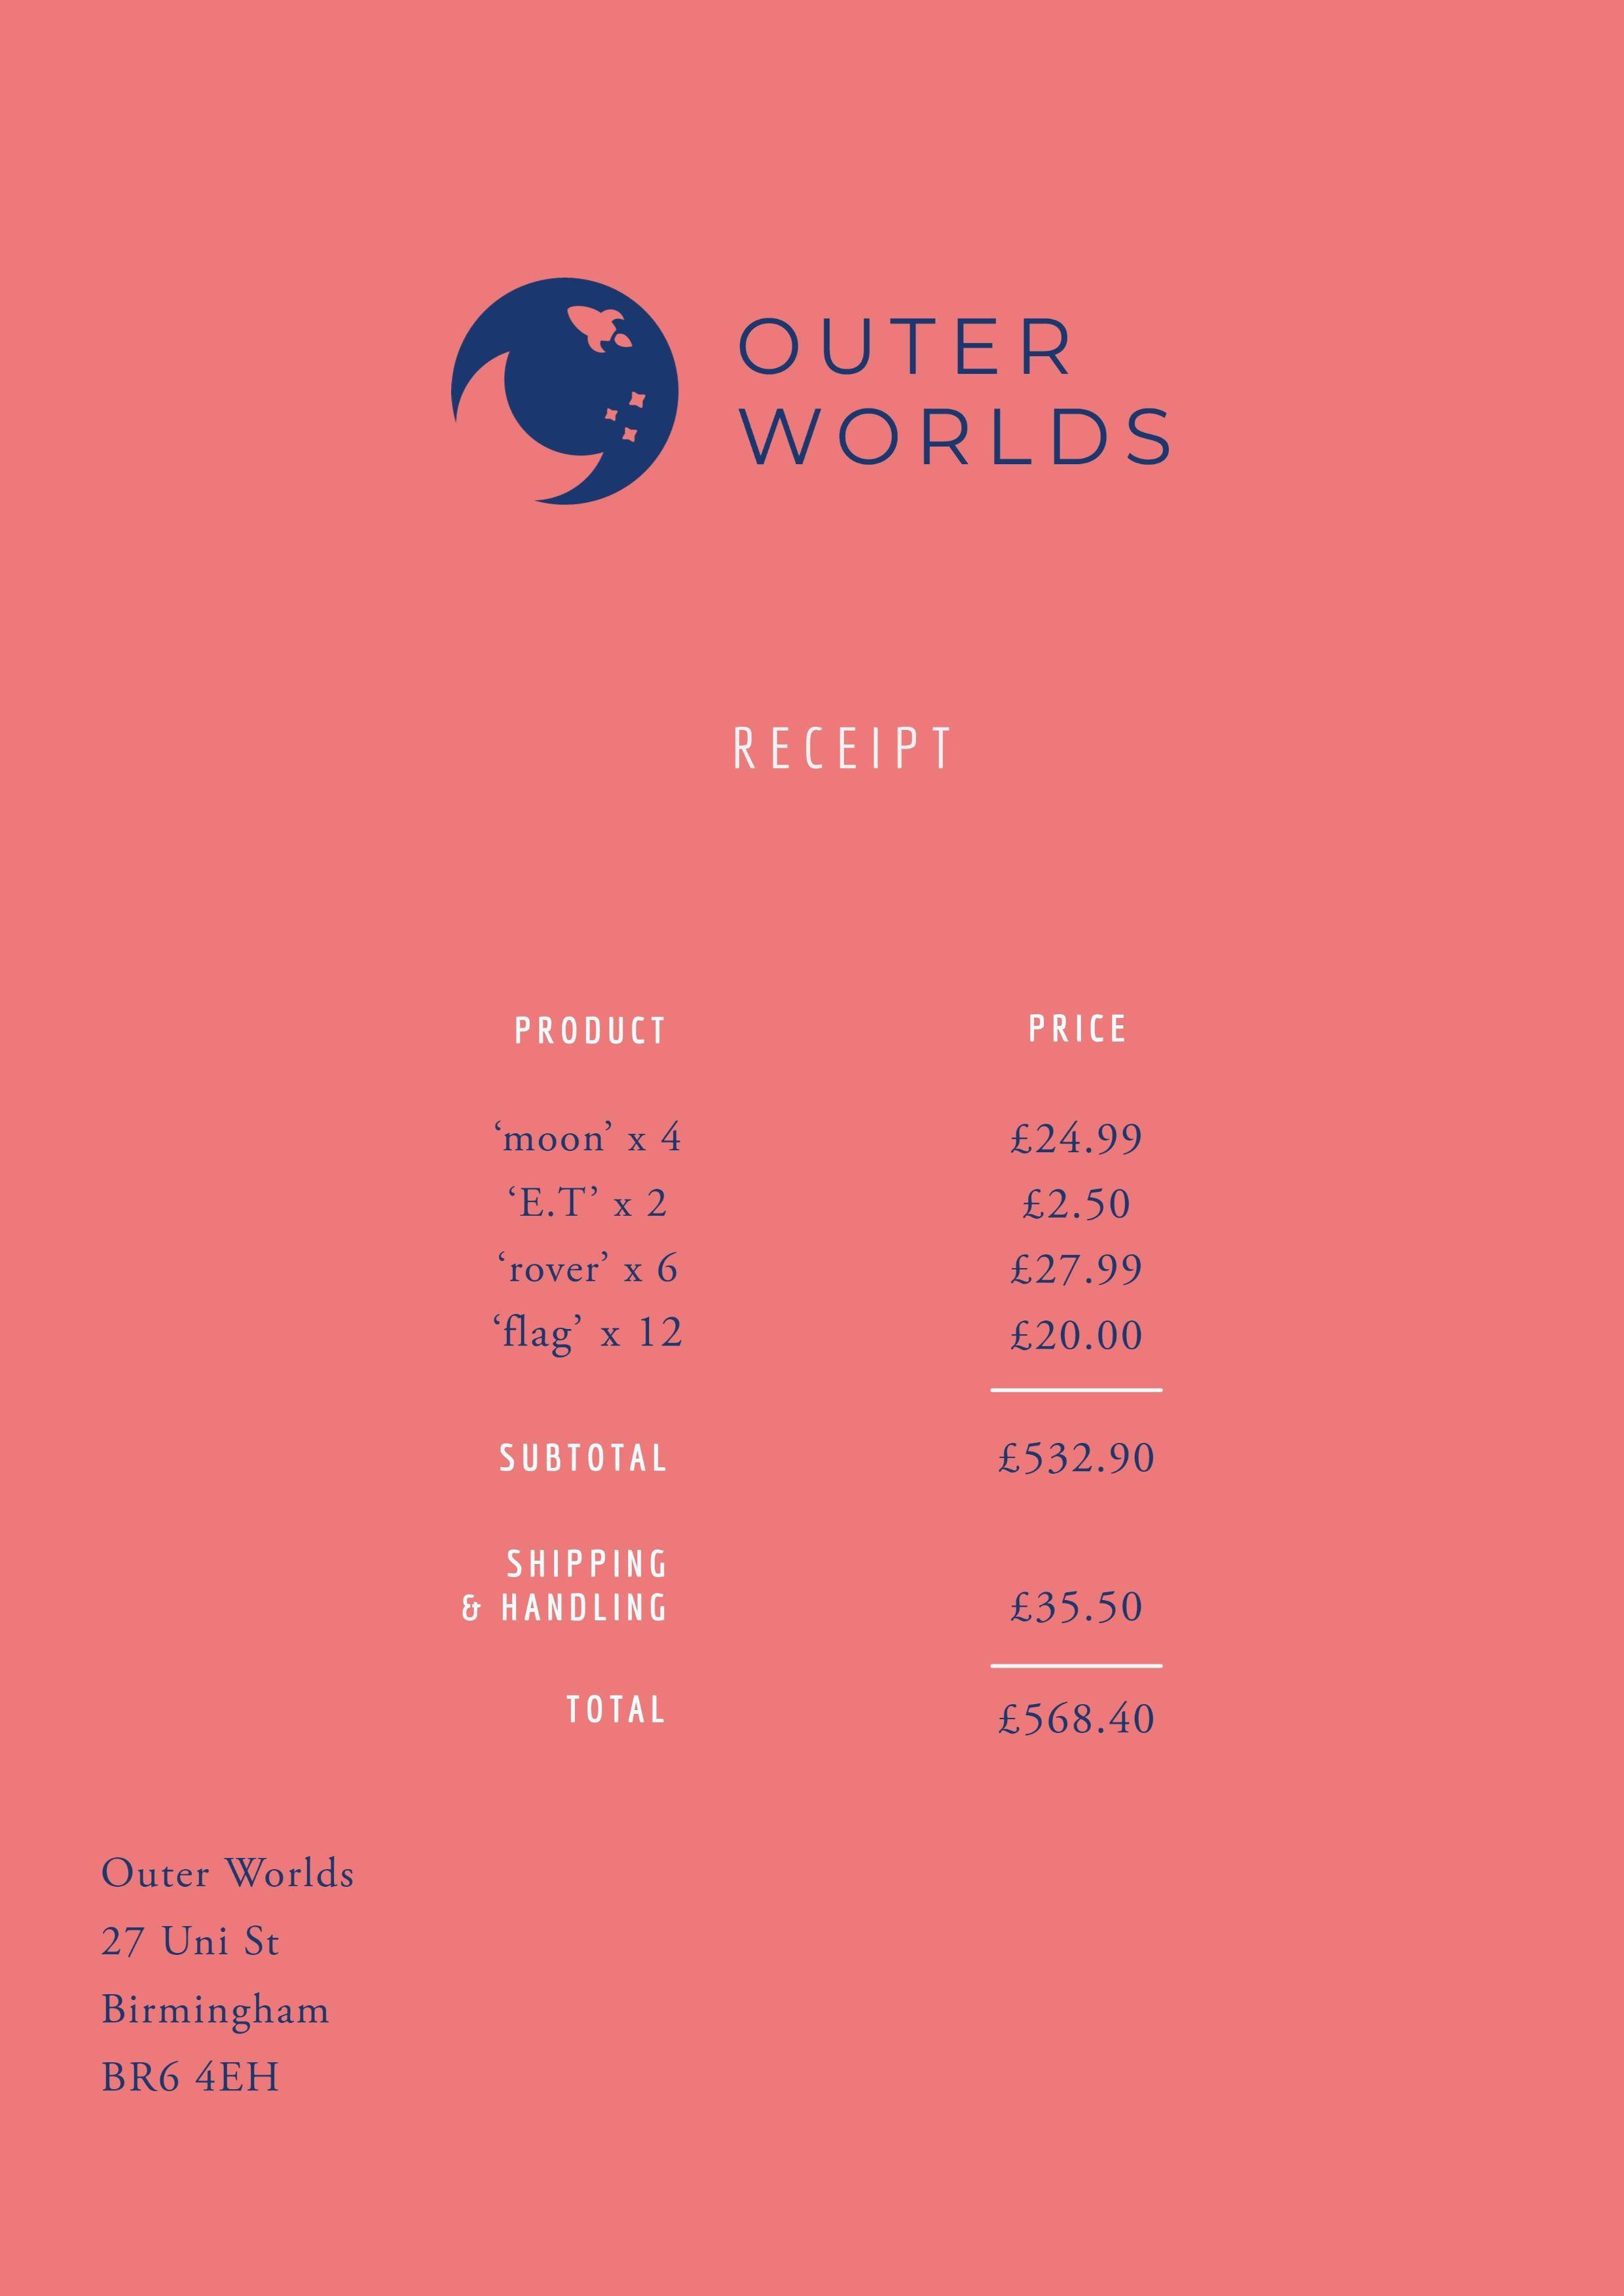ROI: (455, 989, 1165, 1391), (457, 1421, 1165, 1744), (42, 1827, 443, 2134)
